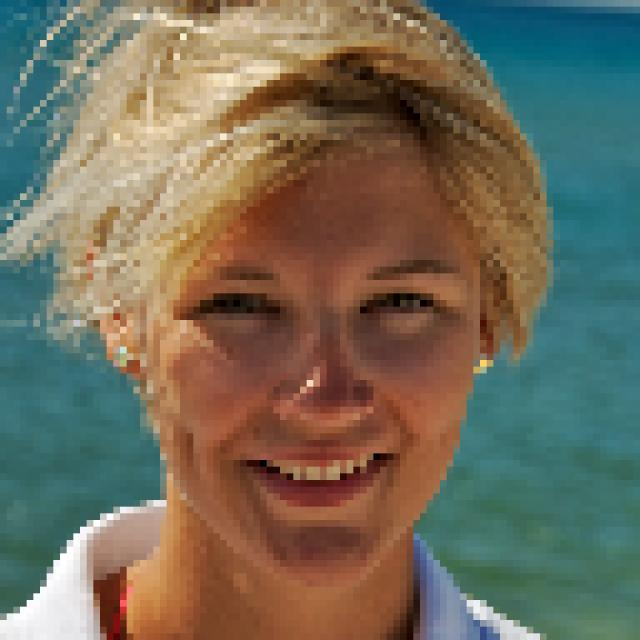happy: (112, 36, 497, 626)
